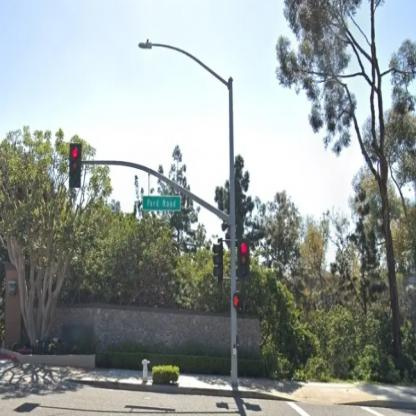red: (237, 238, 251, 281), (69, 143, 81, 188)
